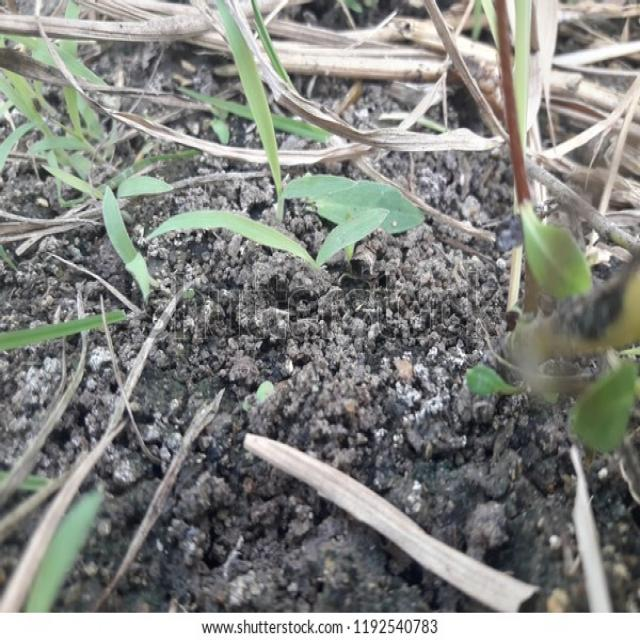Alluvial Soil: (181, 245, 451, 473)
